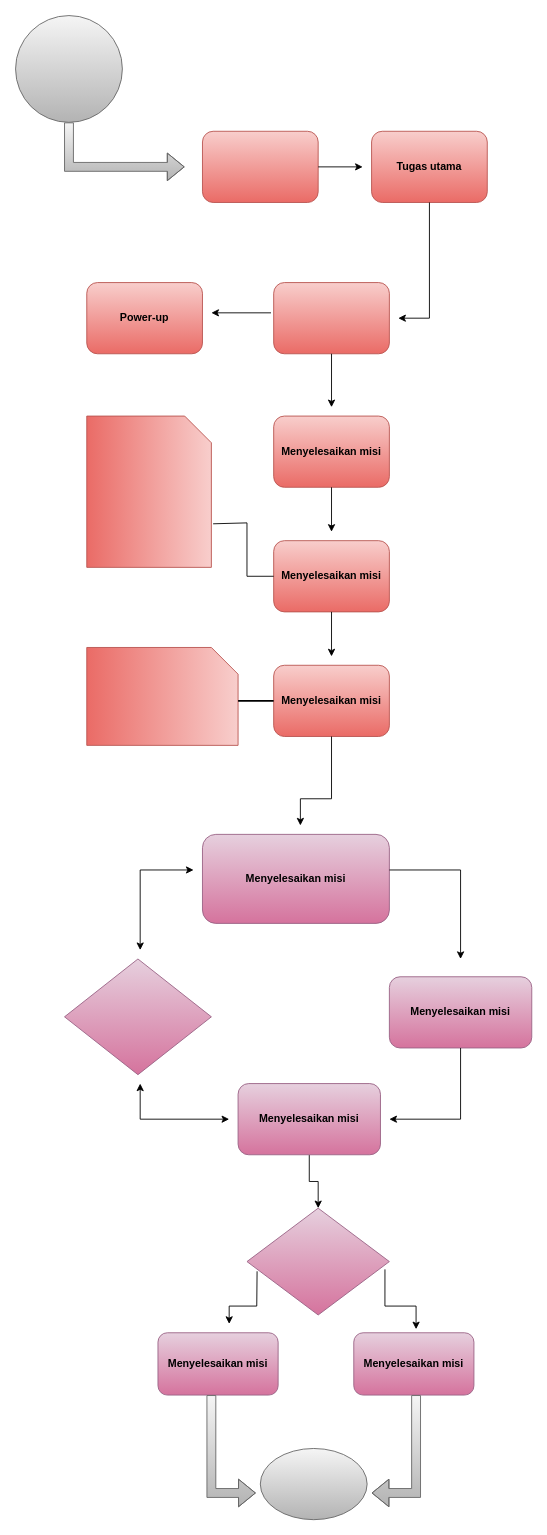
The diagram is 547 pixels wide and 1535 high, and some of its shapes have lost their labels. Here are the shapes that lost their labels. From the top down, the centre of each, then its label:
At point 68,68: "GAME STAR".
At point 260,166: "Mulai permainan".
At point 331,318: "Menghindari bom".
